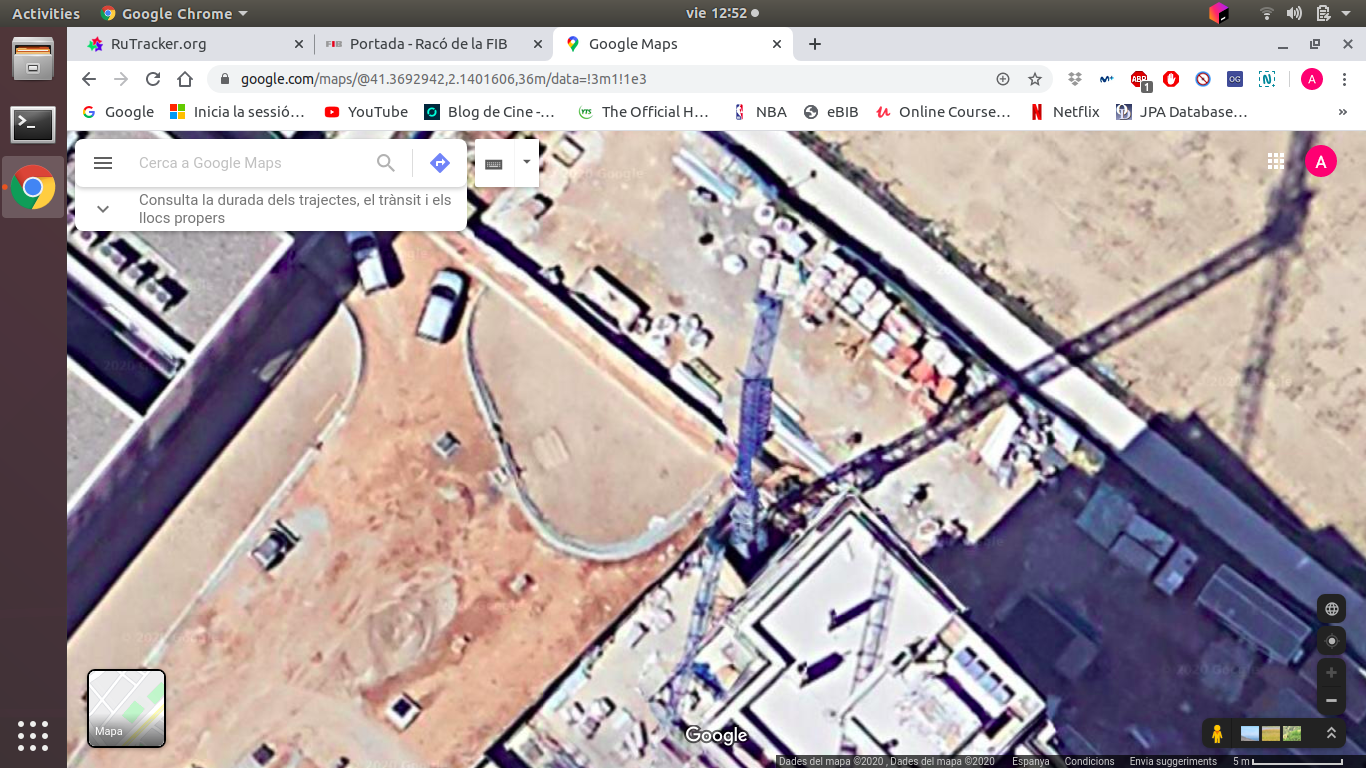crane: (666, 297, 788, 726)
